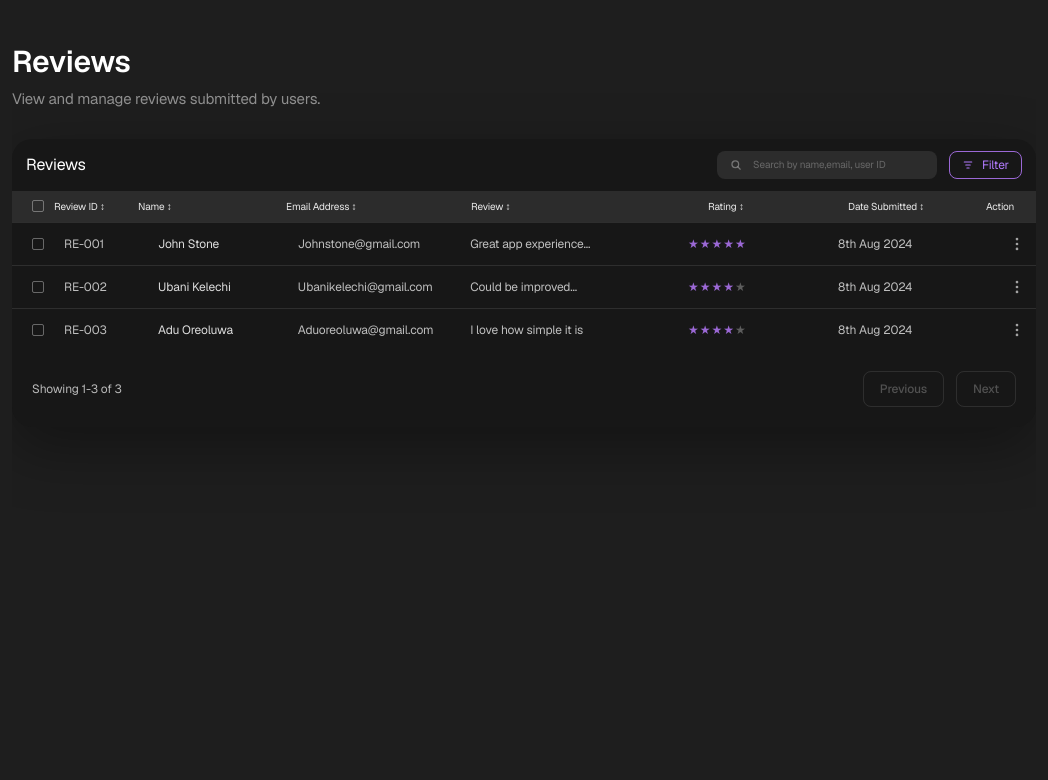
it: ReviewsPage › opens and closes review menu locally
Click the button named "Open review actions 1".
click(1017, 244)  # box [1008,234,1026,252]
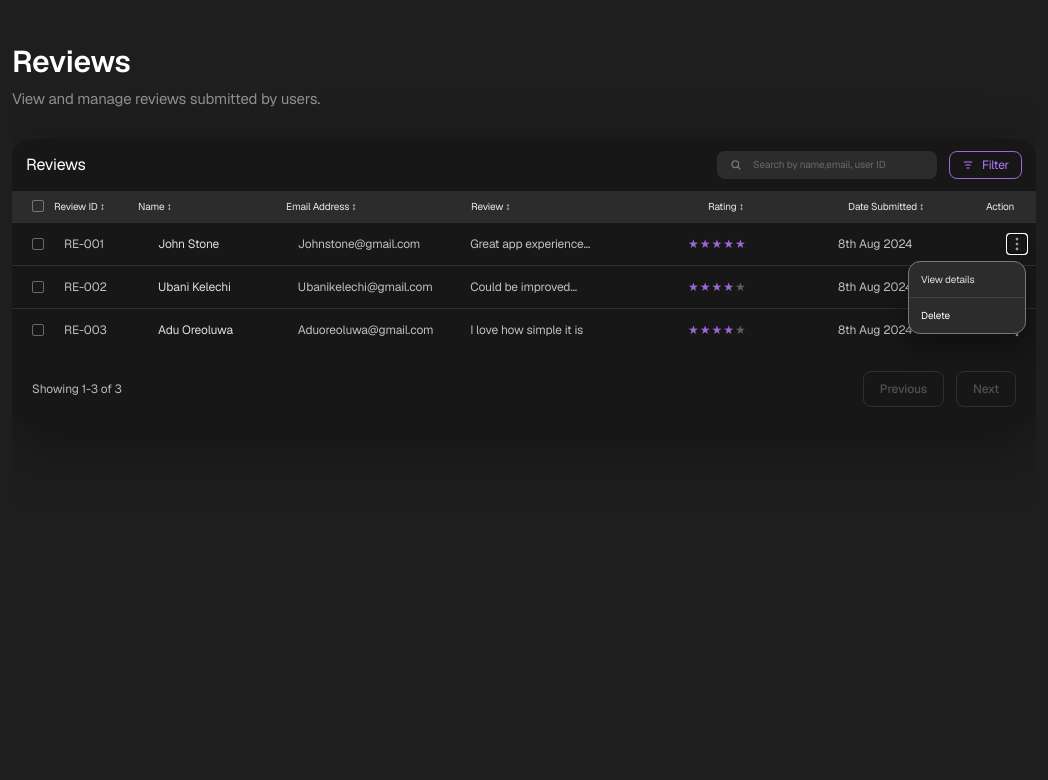
Result: the button "View details" is shown at [909,262,1025,298]
Click the button named "Close review action menu".
click(524, 396)  # box [12,12,1036,779]
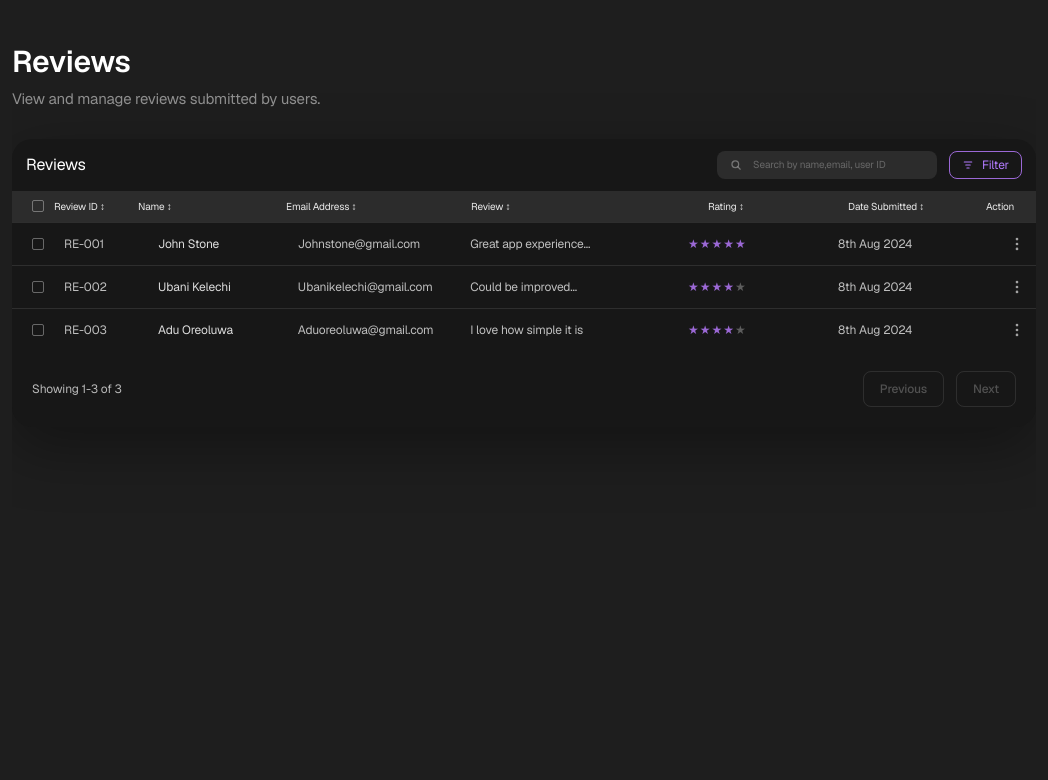
Result: the button "View details" is gone
